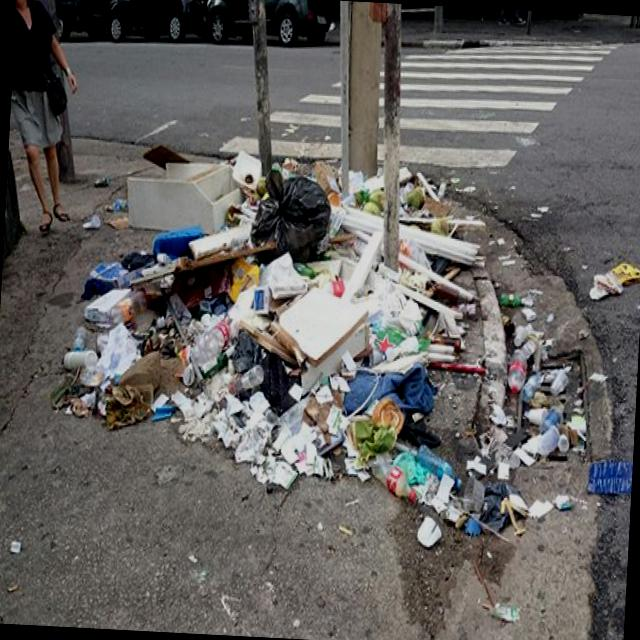garbage: (47, 104, 640, 510)
